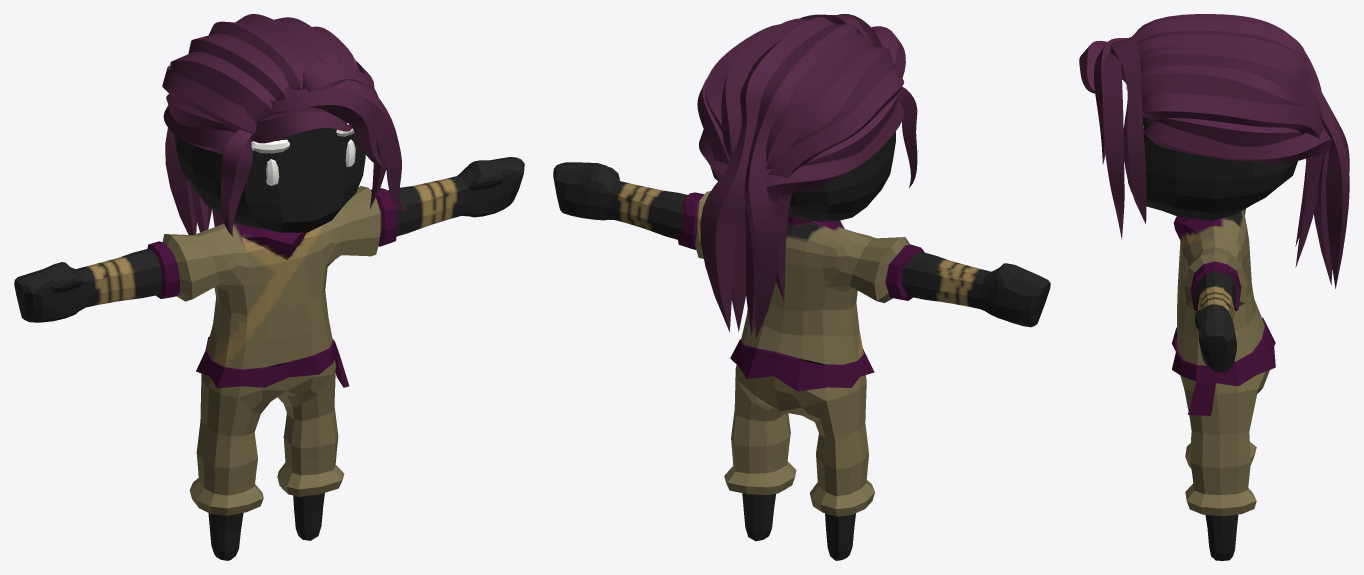
Rendered from Ninja_Sand_Female.fbx.
The picture shows the model from 3 angles, left to right: view 1: azimuth 30°, elevation 25°; view 2: azimuth 150°, elevation 25°; view 3: azimuth 270°, elevation 25°; orthographic projection. The views are drawn at different scales.
Parts seen in each view (by area): view 1: Body; view 2: Body; view 3: Body.
Part boxes in pixels (x1,y1,x2,y2): Body: (14,14,524,560); Body: (553,14,1050,560); Body: (1079,14,1349,560).
Bounding box in the file's own units: 324 × 320 × 153.
1 material, 1 textured.
